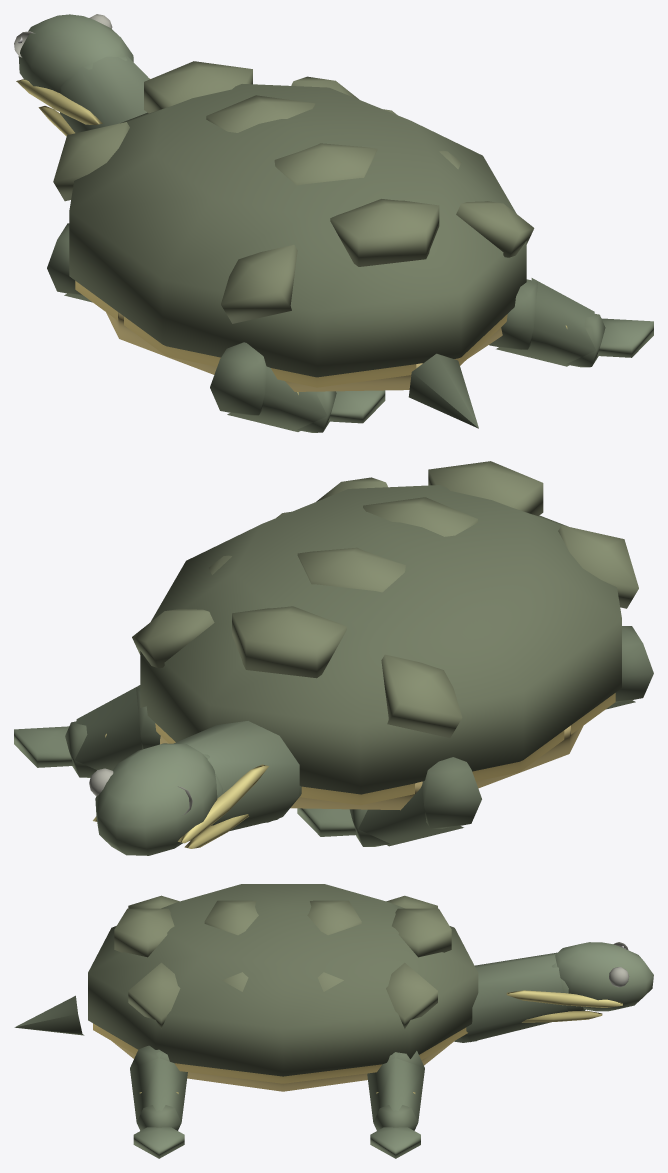
The model's file is turtle.glb.
3 views of the same model, one above another, from view 1: azimuth 30°, elevation 25°; view 2: azimuth 150°, elevation 25°; view 3: azimuth 270°, elevation 25° (orthographic). The views are drawn at different scales.
Parts seen in each view (by area): view 1: body, head, leg_2, leg_3, leg_1; view 2: body, head, leg_1, leg_0, leg_3; view 3: body, head, leg_2, leg_0.
Boxes of the visible parts, bbox=[...] form: body: bbox=[53, 61, 534, 428]; head: bbox=[14, 14, 150, 136]; leg_2: bbox=[489, 278, 653, 367]; leg_3: bbox=[210, 342, 385, 432]; leg_1: bbox=[47, 223, 92, 302]; body: bbox=[132, 461, 638, 810]; head: bbox=[89, 721, 301, 855]; leg_1: bbox=[297, 757, 481, 846]; leg_0: bbox=[14, 685, 160, 777]; leg_3: bbox=[606, 626, 653, 709]; body: bbox=[14, 884, 478, 1091]; head: bbox=[454, 942, 653, 1042]; leg_2: bbox=[130, 1045, 187, 1158]; leg_0: bbox=[367, 1051, 424, 1158].
Bounding box in the file's own units: 0.3367 × 0.163 × 0.568.
